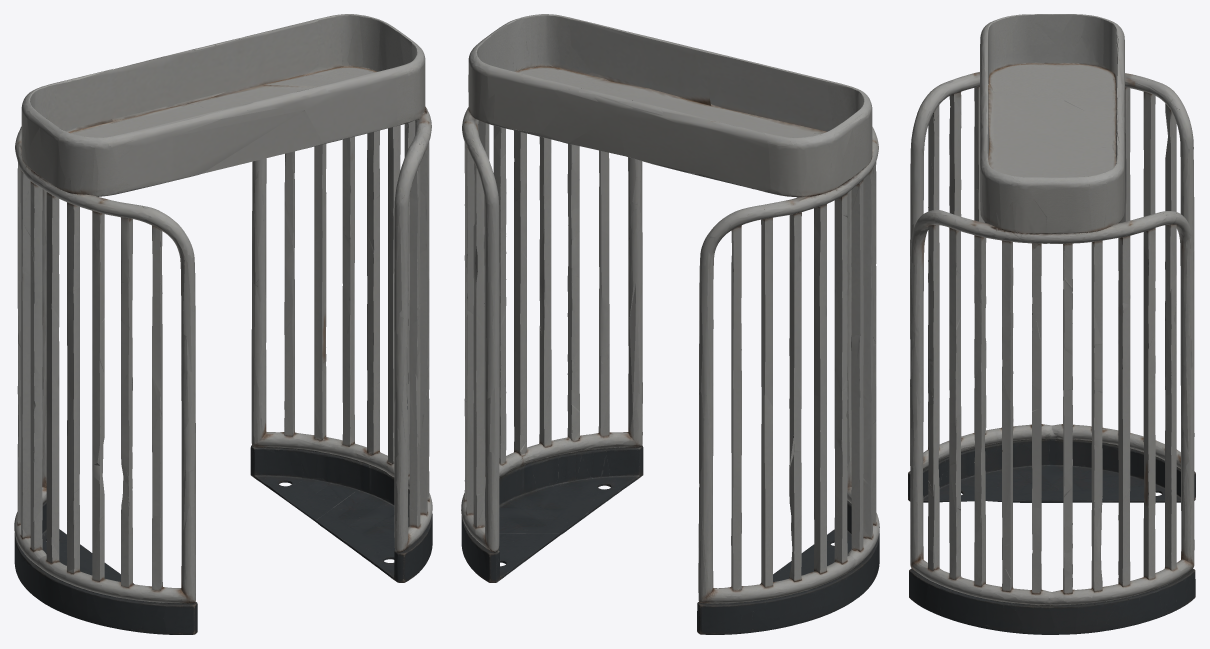
The model's file is tornello_telaio.glb.
The picture shows the model from 3 angles, left to right: view 1: azimuth 30°, elevation 25°; view 2: azimuth 150°, elevation 25°; view 3: azimuth 270°, elevation 25°; orthographic projection. The views are drawn at different scales.
Parts seen in each view (by area): view 1: Mesh_0; view 2: Mesh_0; view 3: Mesh_0.
Part boxes in pixels (bbox=[...]): Mesh_0: bbox=[14, 14, 432, 634]; Mesh_0: bbox=[461, 14, 879, 634]; Mesh_0: bbox=[908, 14, 1195, 634].
Size of the model in its own units: 1.55 by 1.9 by 1.09.
1 material, 1 textured.
